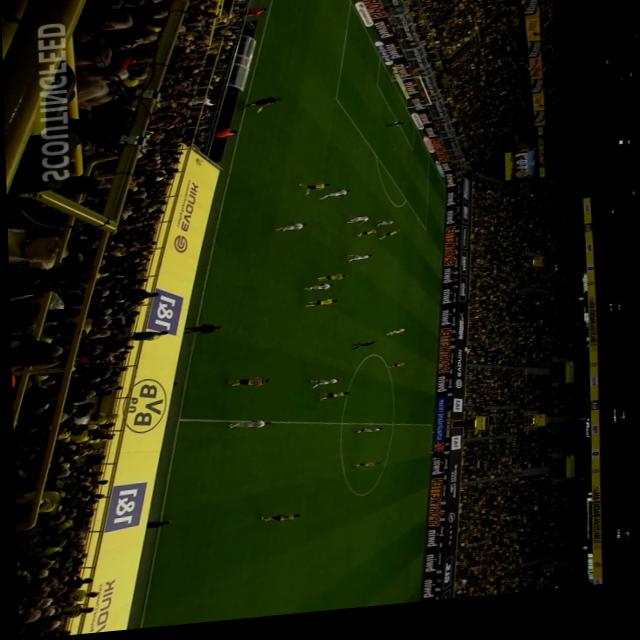goalkeeper: (385, 129, 405, 136)
player: (223, 381, 267, 394), (224, 423, 269, 435), (296, 188, 328, 202), (312, 396, 347, 408), (270, 228, 306, 239), (257, 518, 296, 528), (317, 195, 349, 207), (306, 384, 338, 395), (312, 279, 346, 289), (342, 259, 370, 270), (343, 223, 369, 234), (301, 305, 335, 313), (301, 289, 331, 298), (347, 468, 377, 476), (376, 237, 398, 247), (352, 236, 376, 245), (371, 226, 394, 235), (350, 434, 379, 441), (383, 336, 403, 344), (384, 370, 405, 376)
referee: (239, 102, 280, 120), (347, 347, 374, 357), (426, 464, 445, 470)
